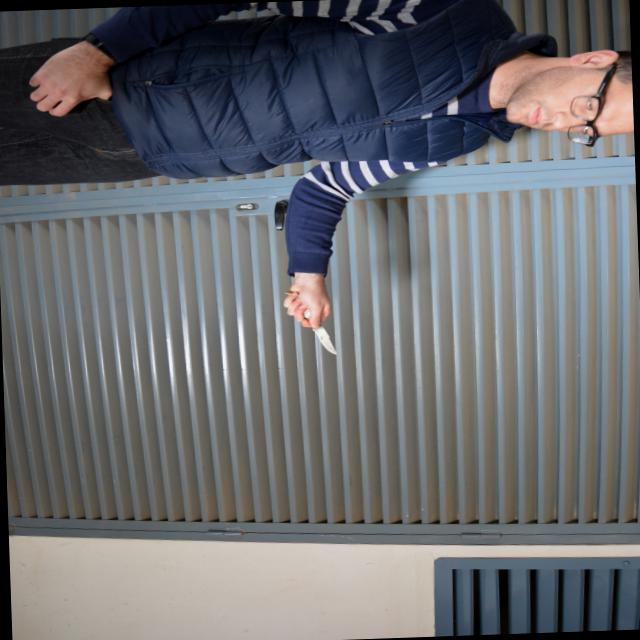knife: (282, 287, 341, 359)
